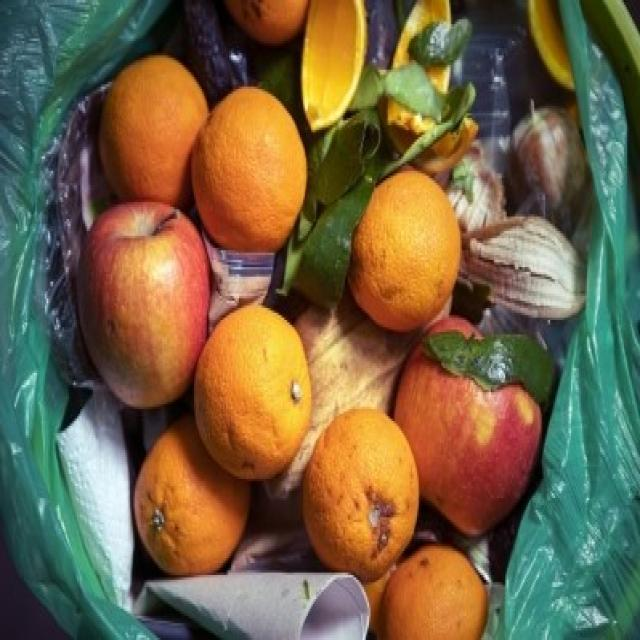organic: (388, 317, 542, 540), (75, 199, 211, 406), (192, 305, 311, 482), (302, 406, 421, 583), (133, 412, 254, 580), (190, 86, 306, 254), (346, 166, 459, 333), (98, 52, 209, 206), (458, 216, 584, 320), (418, 328, 566, 403), (300, 3, 367, 132)
